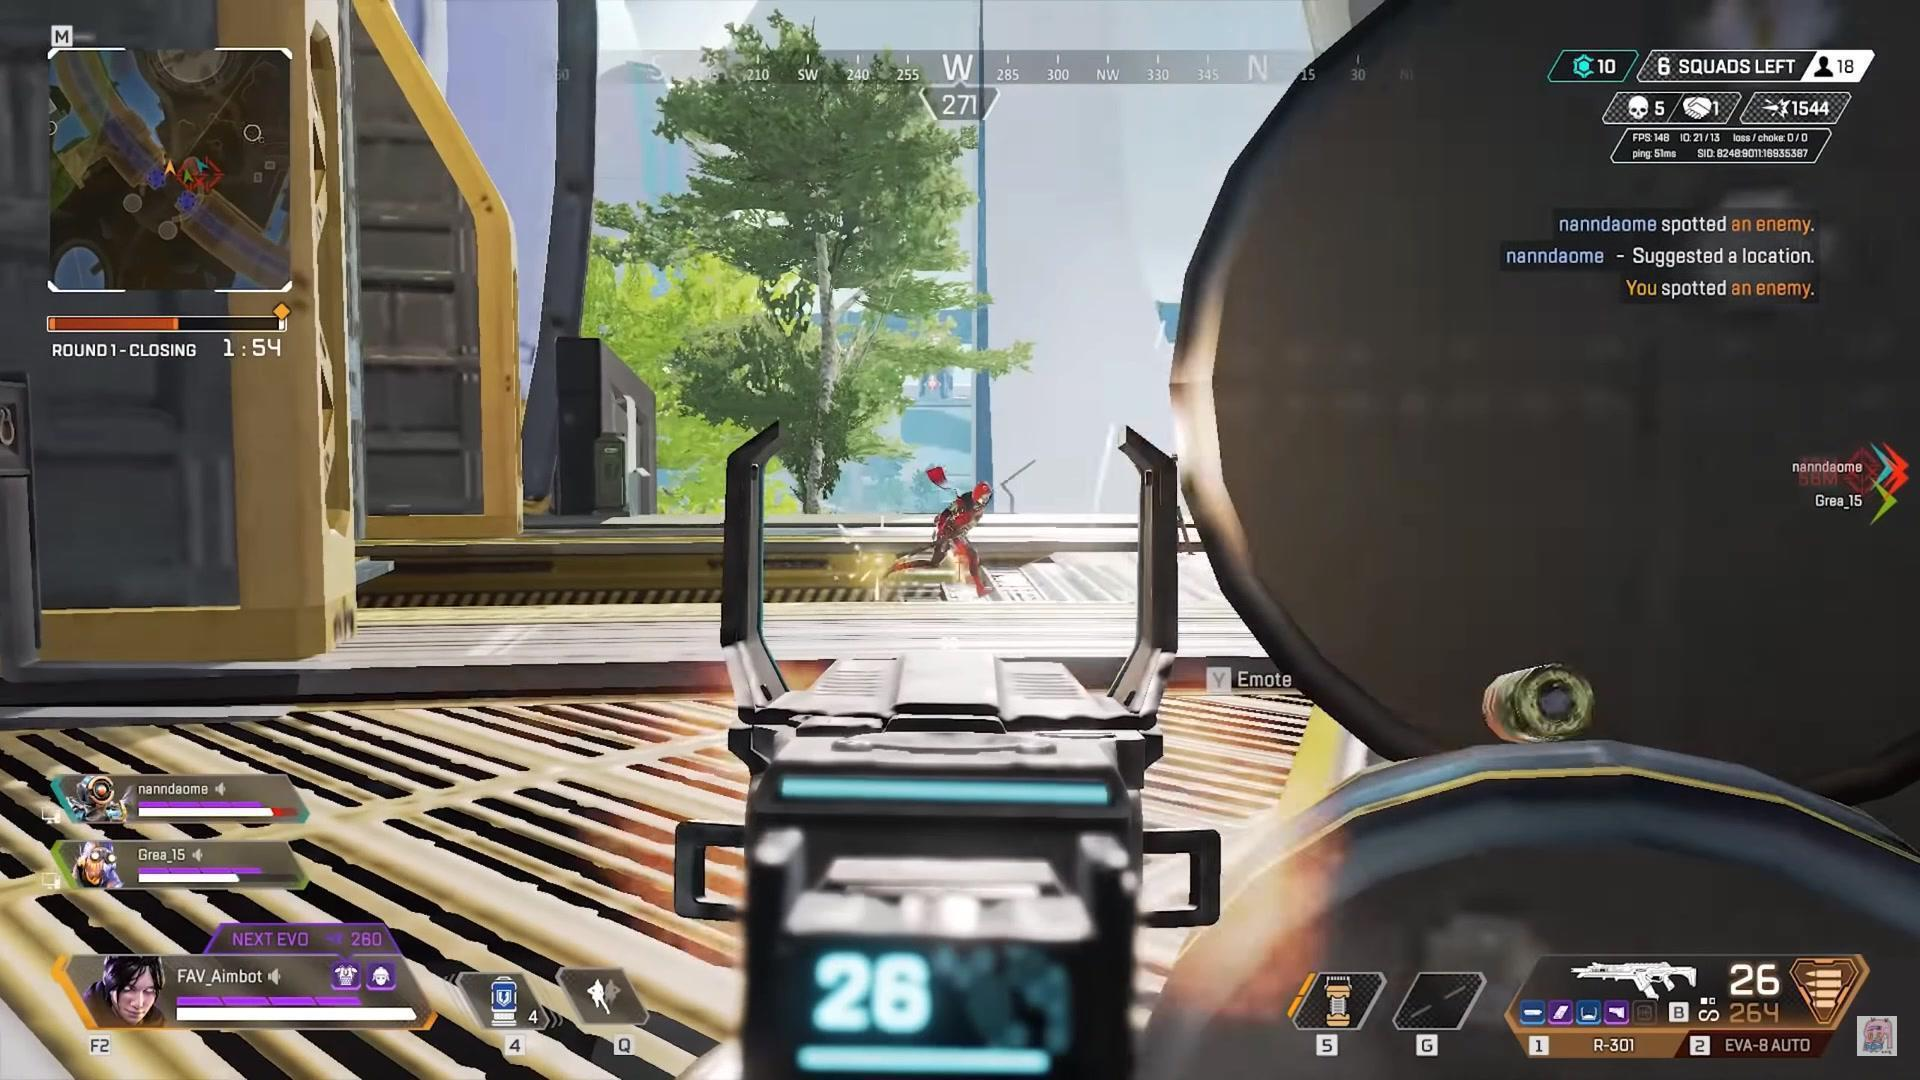avatar: (929, 479, 994, 600)
